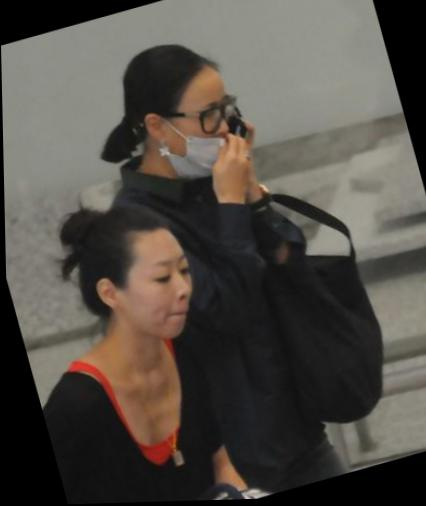NONE: (107, 253, 210, 355)
WRONG: (161, 87, 257, 184)
